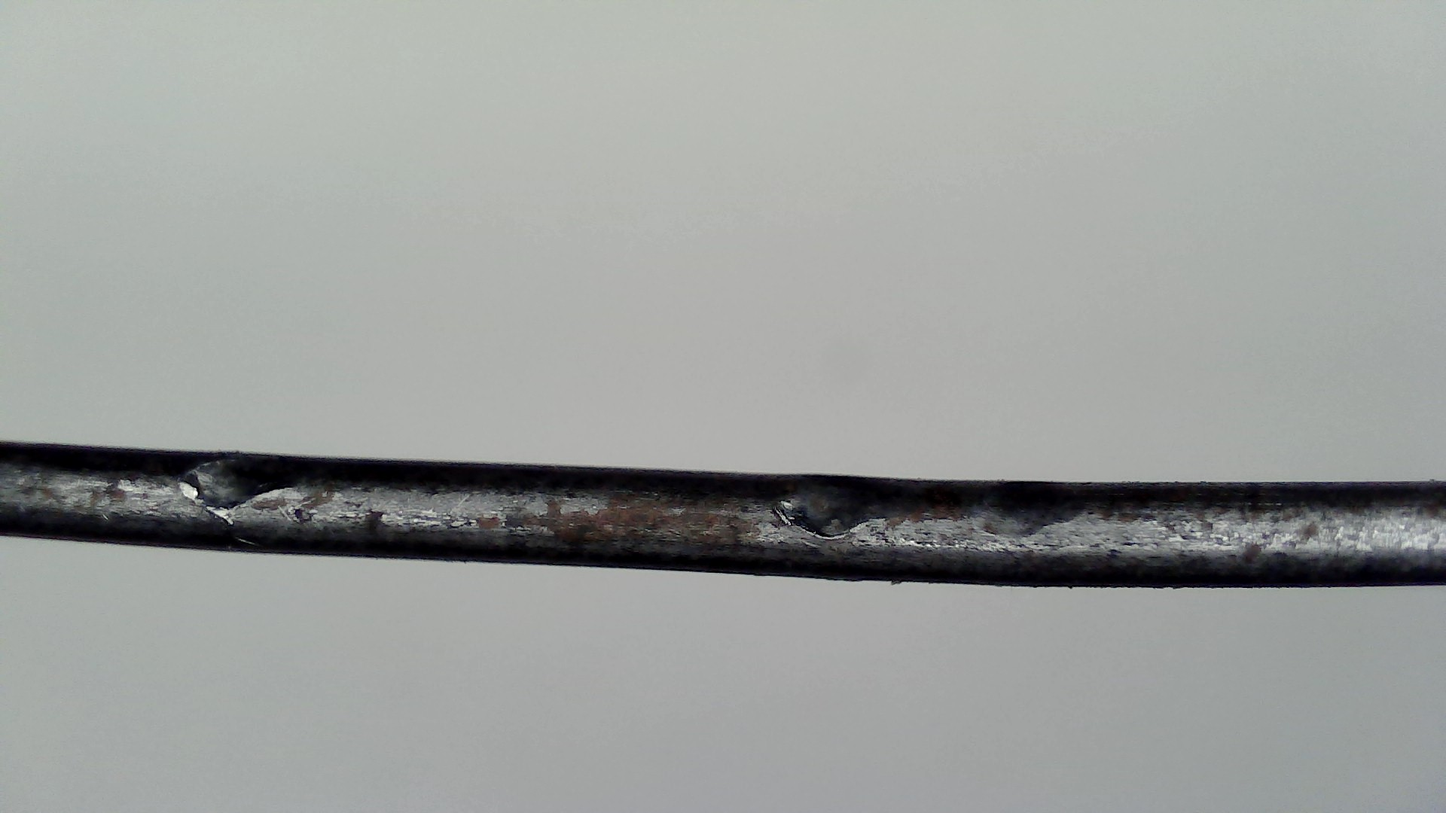defect: (171, 449, 321, 516), (771, 469, 914, 534), (975, 480, 1085, 538)
